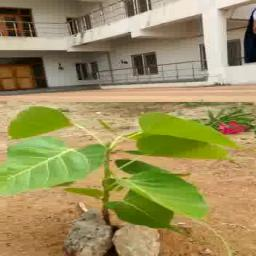LEAVS: (8, 102, 256, 226)
